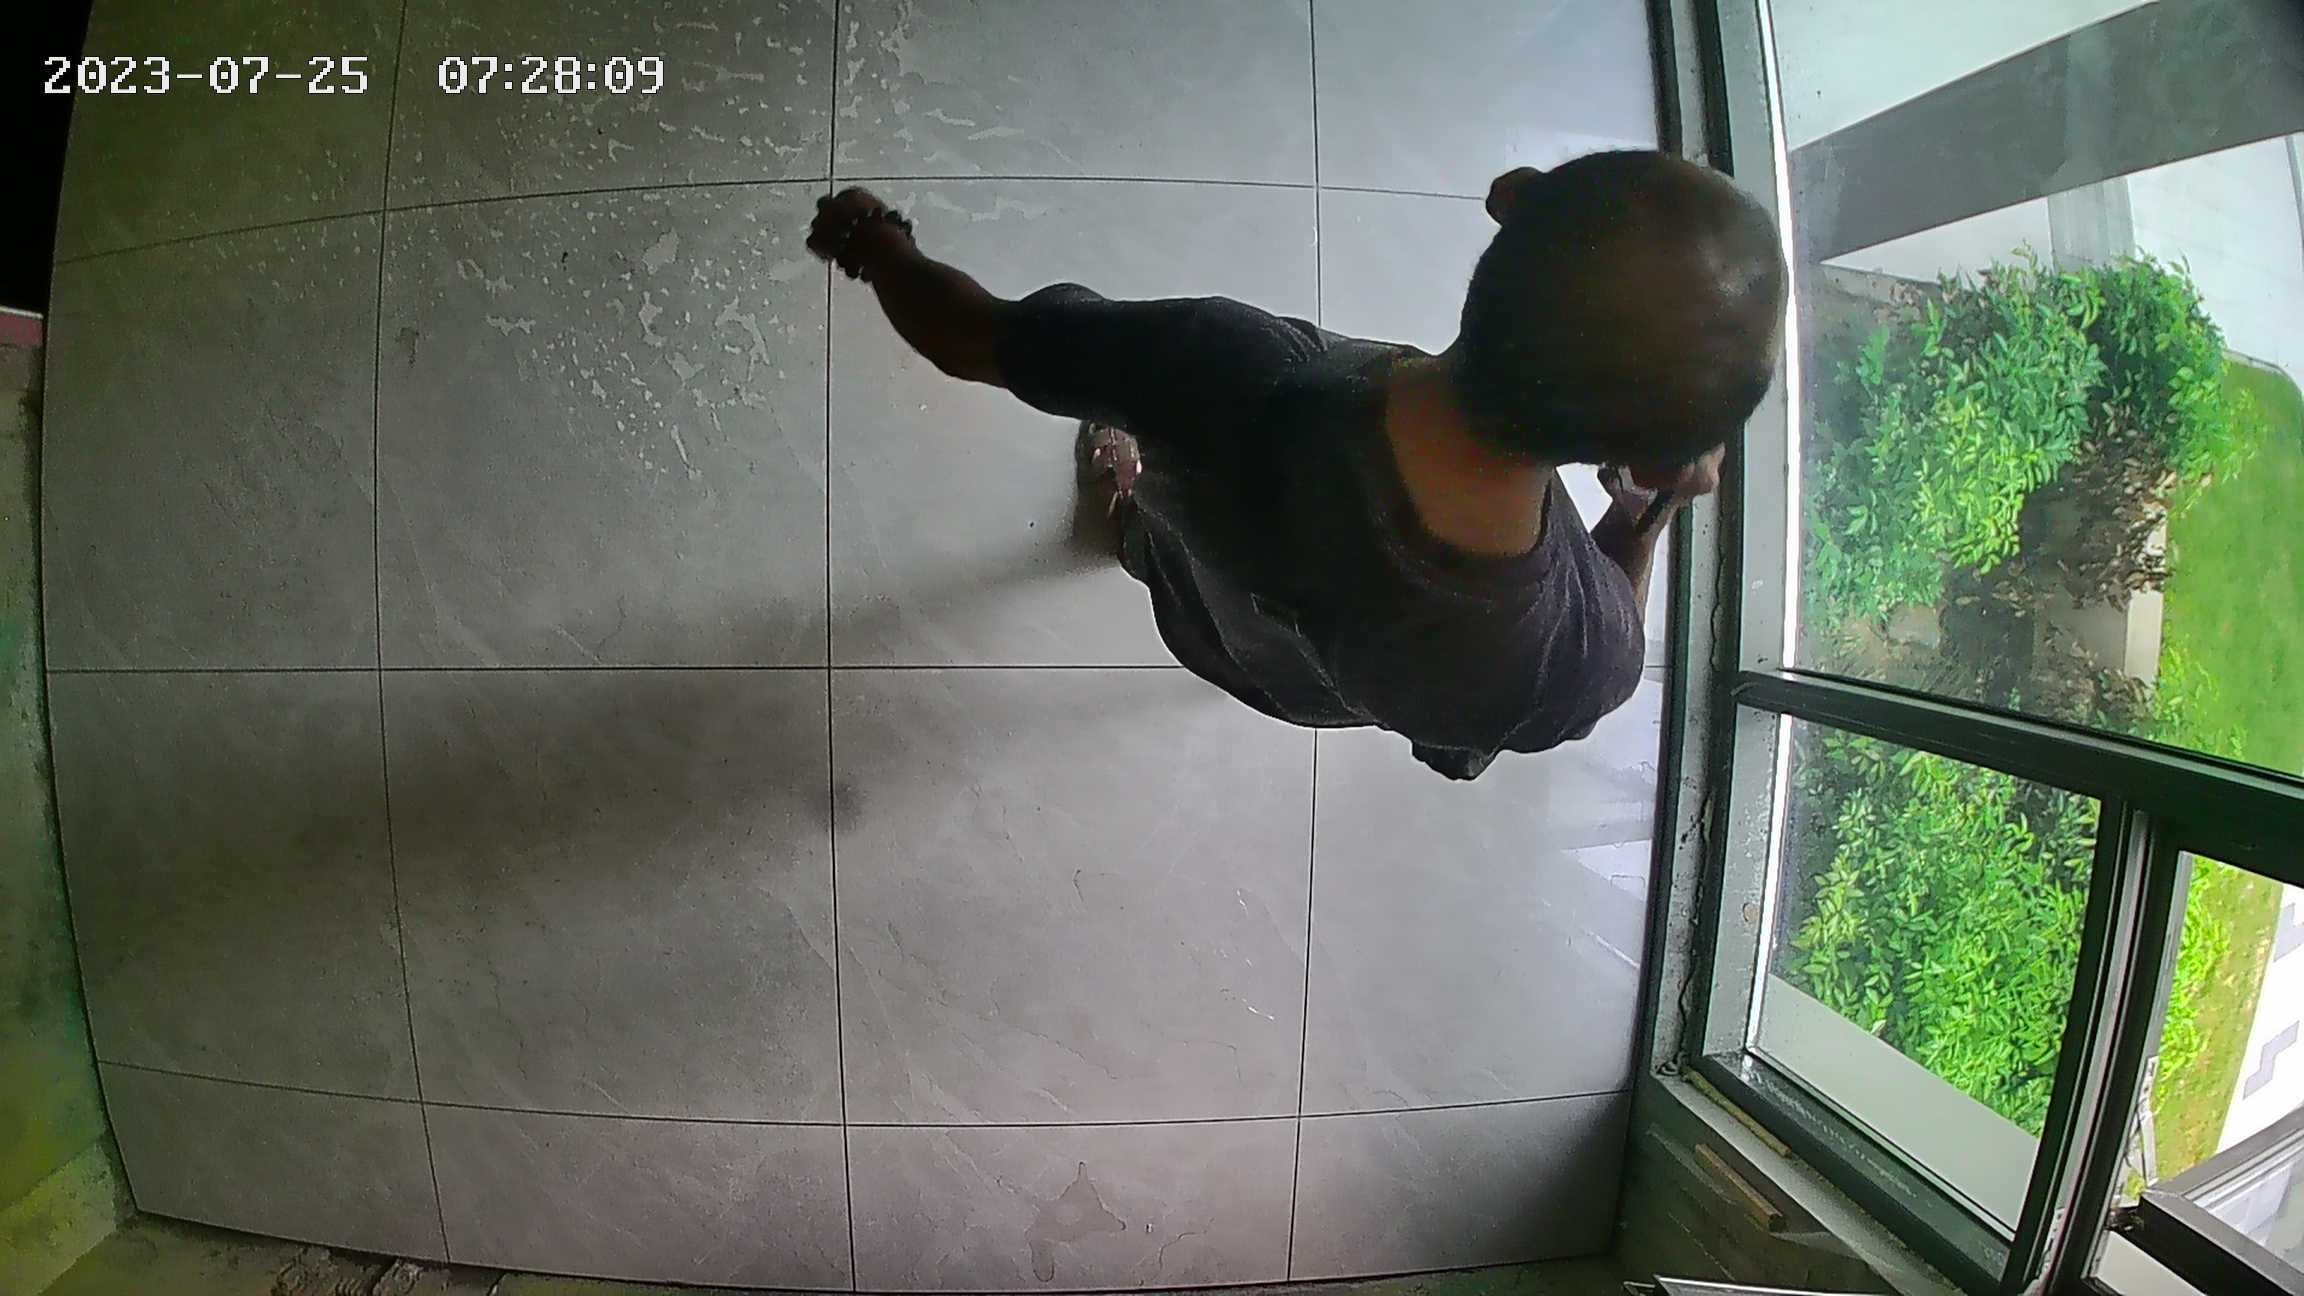people: (829, 59, 1772, 791)
window: (1731, 5, 2302, 1296)
